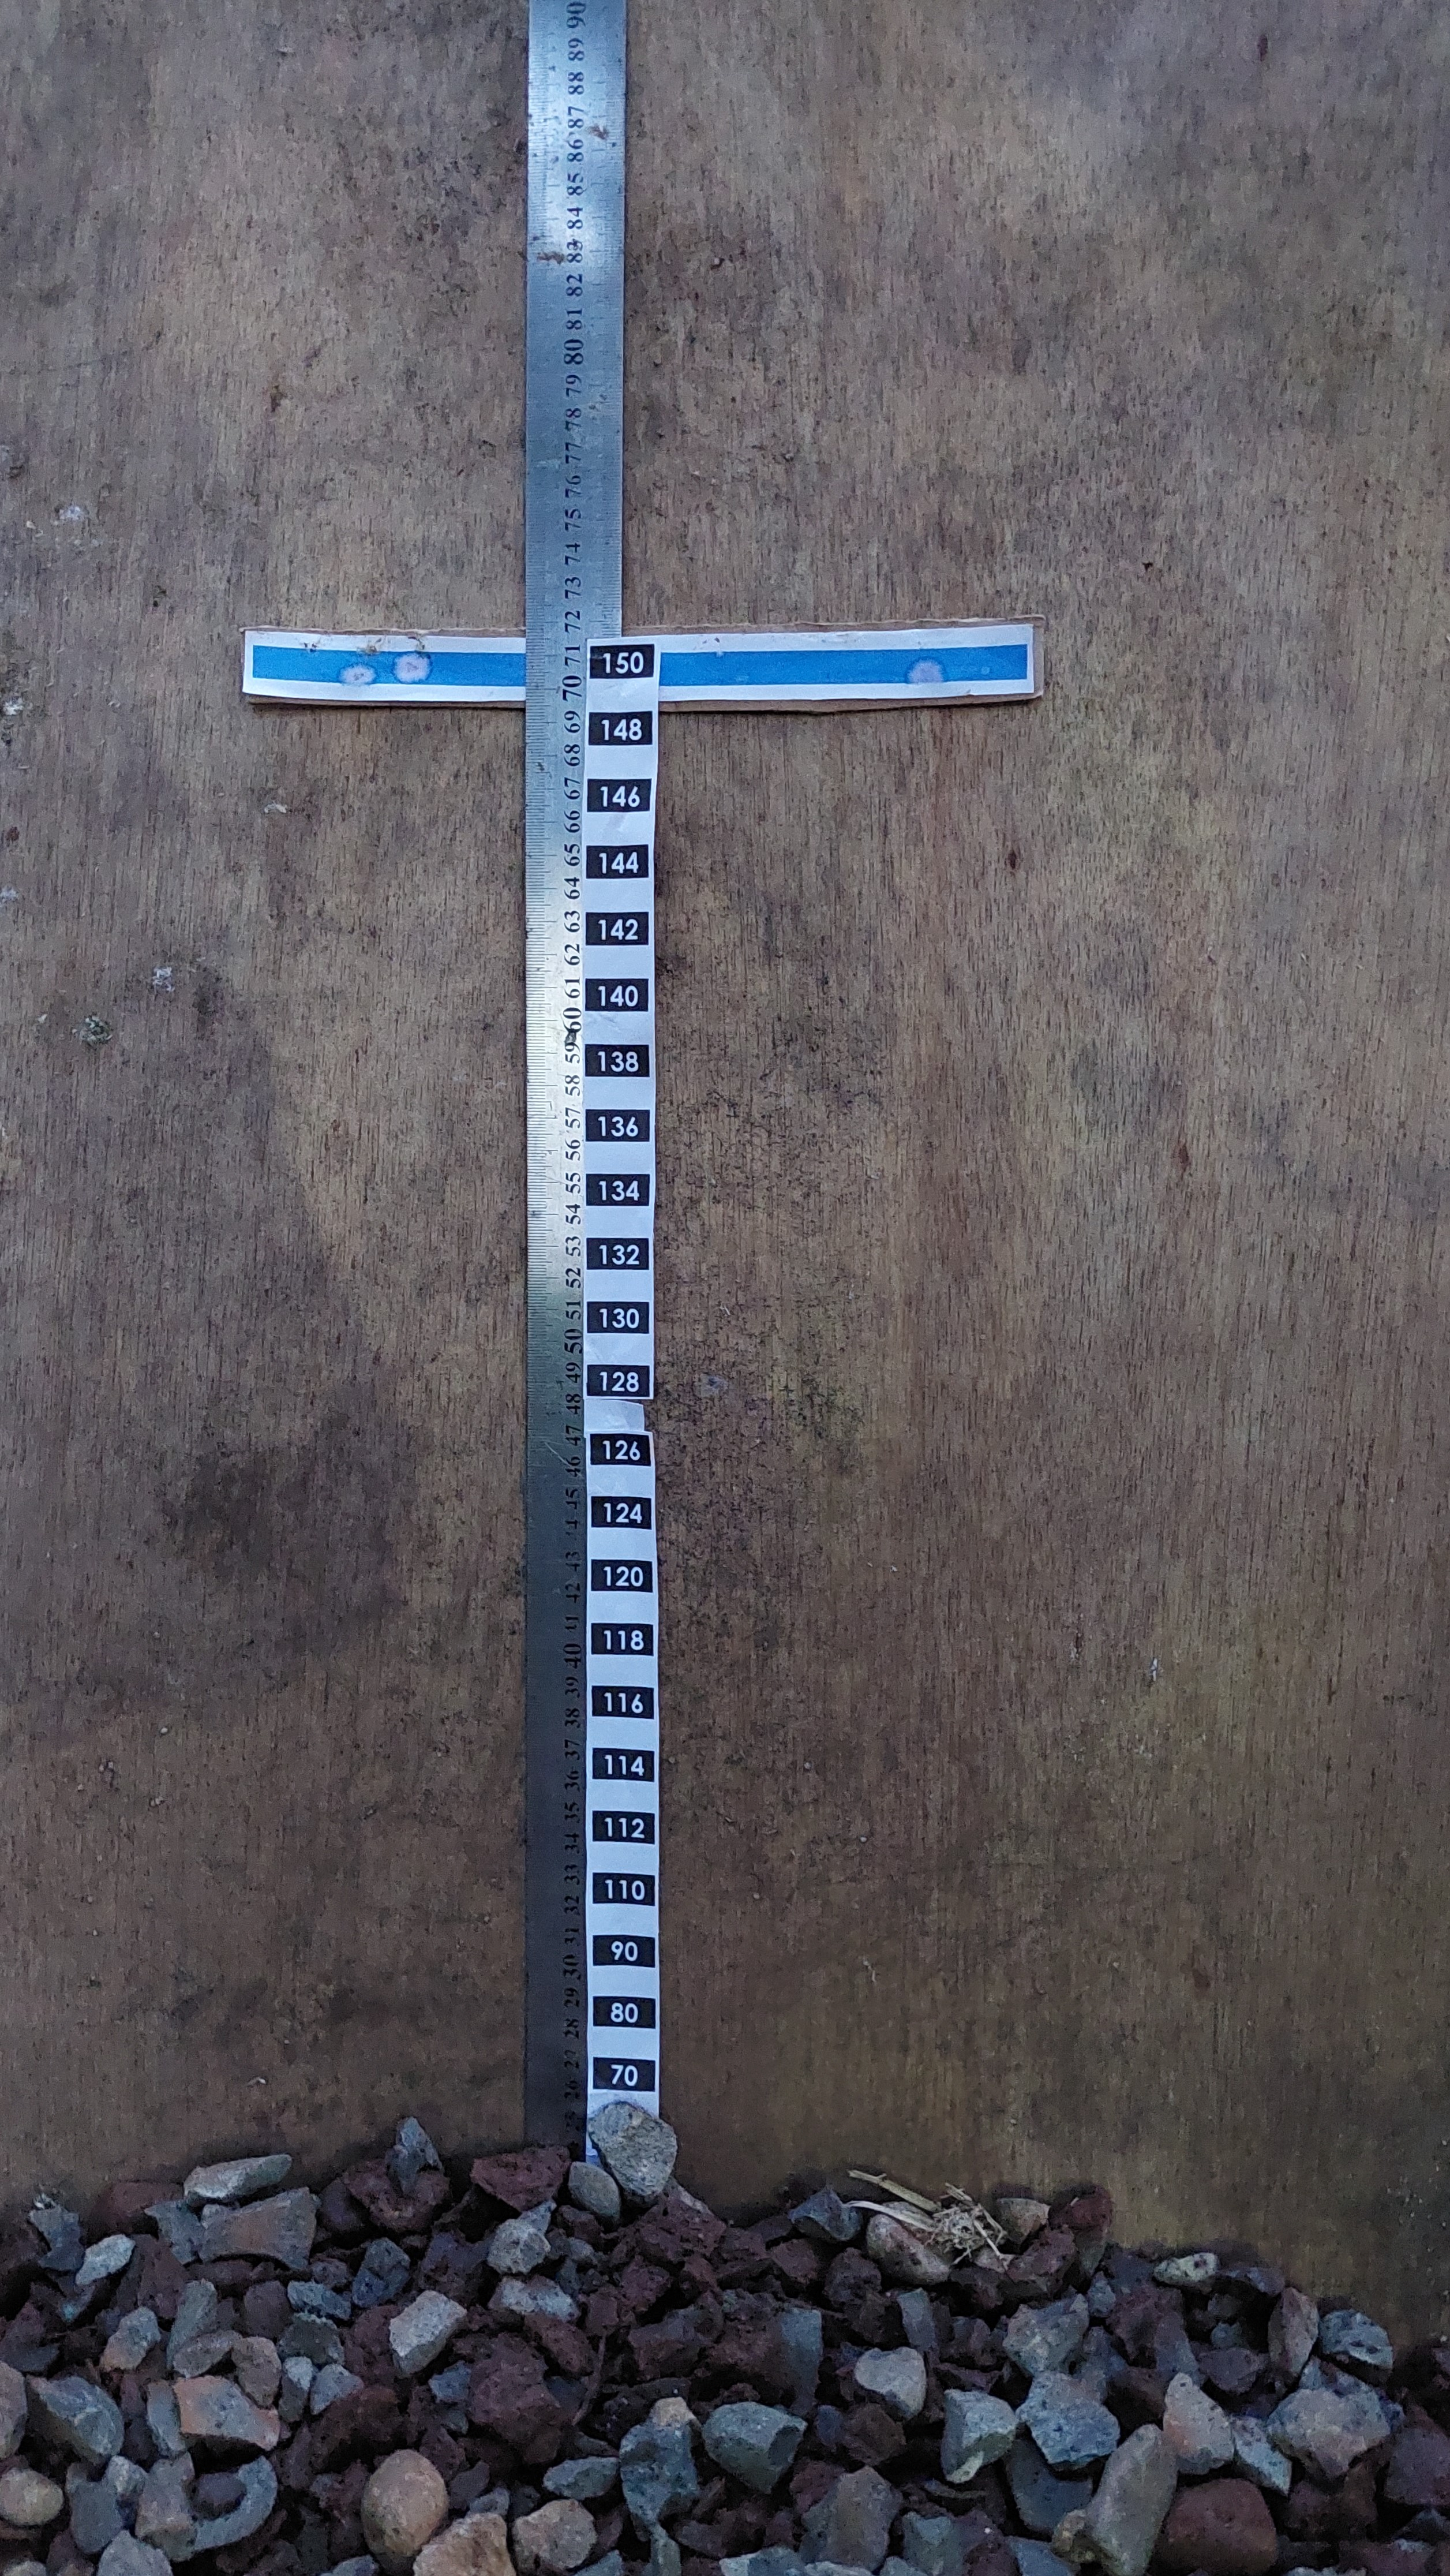kotak_2x1: (584, 1037, 652, 1085), (582, 908, 652, 954), (589, 1803, 660, 1849), (587, 1741, 658, 1787), (585, 706, 652, 754), (582, 1231, 654, 1276), (587, 1928, 660, 1973), (584, 773, 652, 819), (589, 1990, 658, 2036), (587, 1617, 656, 1663), (584, 1104, 654, 1148), (589, 2054, 660, 2098), (584, 1168, 652, 1212), (589, 1555, 658, 1599), (585, 640, 660, 681), (589, 1490, 654, 1536), (584, 840, 654, 883), (589, 1683, 658, 1725), (589, 1868, 660, 1909), (584, 975, 652, 1016), (585, 1297, 654, 1338), (589, 1428, 654, 1470), (585, 1359, 652, 1399)
mal_biru_150: (244, 633, 1034, 690)
